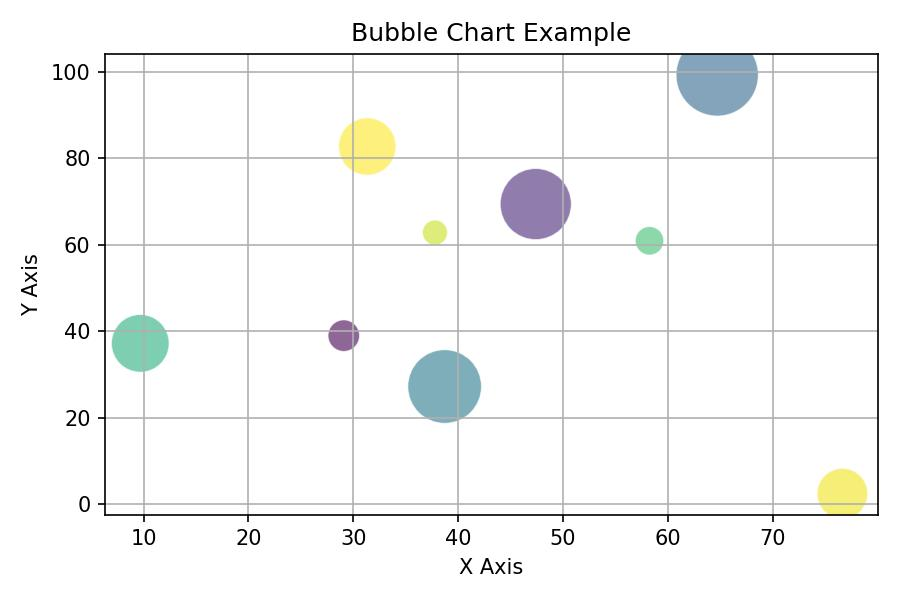axis: (79, 503, 882, 556), (46, 34, 113, 547)
circle: (409, 348, 482, 421), (498, 167, 573, 238), (113, 312, 170, 373), (338, 120, 396, 173), (819, 470, 870, 515), (422, 220, 449, 243), (636, 230, 662, 253)
